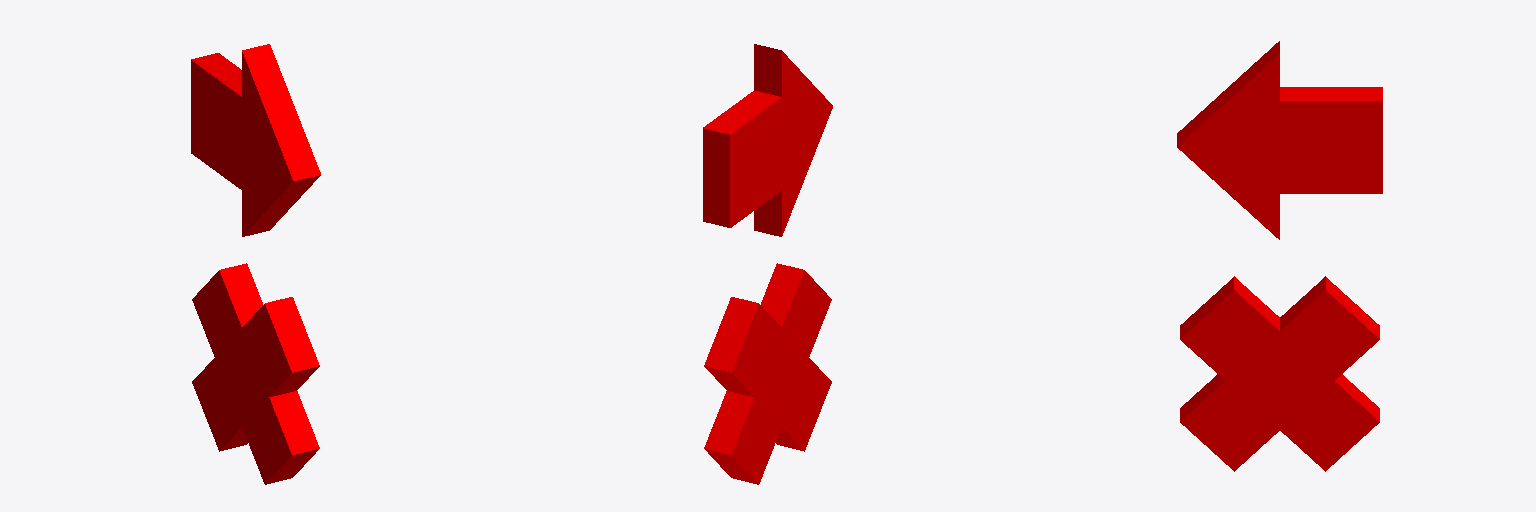
Rendered from arrow_up.obj.
3 views of the same model, side by side, from view 1: azimuth 30°, elevation 25°; view 2: azimuth 150°, elevation 25°; view 3: azimuth 270°, elevation 25° (orthographic).
Visible parts, largest first — view 1: unnamed_object1; view 2: unnamed_object1; view 3: unnamed_object1.
Boxes of the visible parts, box(x1,y1,x2,y2) form: unnamed_object1: box(191, 44, 320, 484); unnamed_object1: box(703, 44, 832, 484); unnamed_object1: box(1177, 41, 1382, 471).
Bounding box in the file's own units: 0.25 × 3.58 × 1.6.